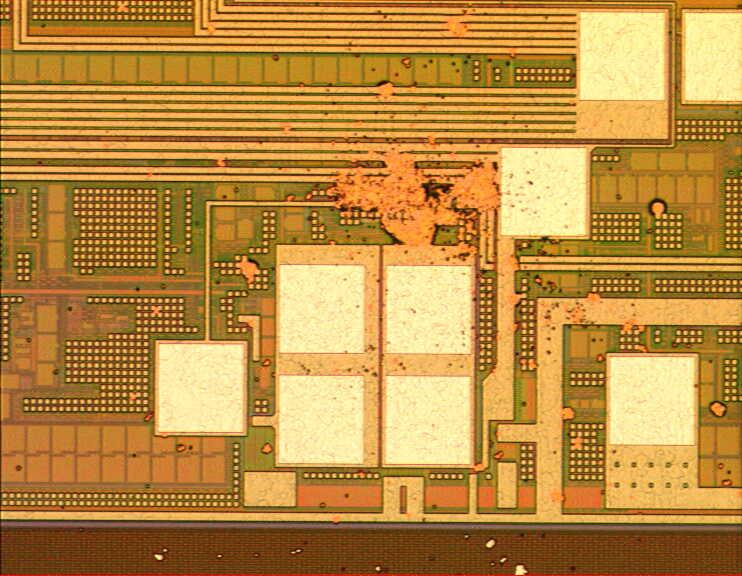PO CONTAMINATION: (14, 1, 738, 576)
